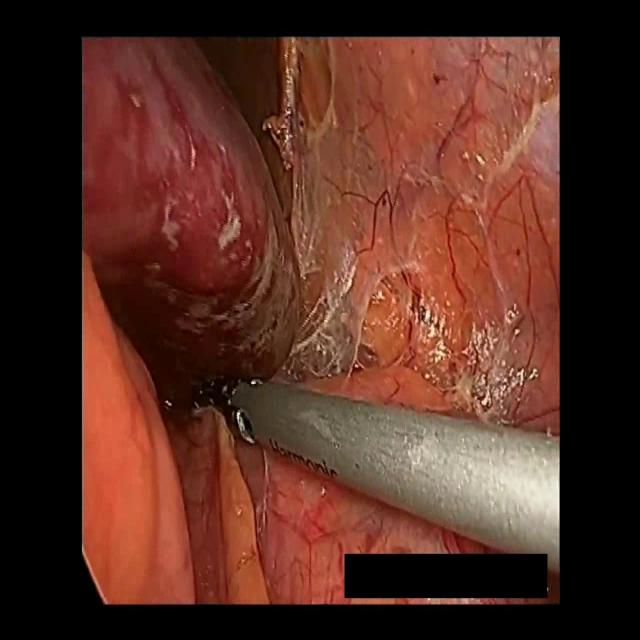surgical-area: (82, 38, 558, 603)
surgical-tool: (212, 367, 560, 577)
